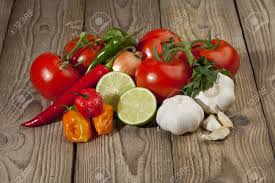Onion: (161, 100, 207, 134)
Tomato: (142, 52, 189, 92), (30, 55, 79, 92)
